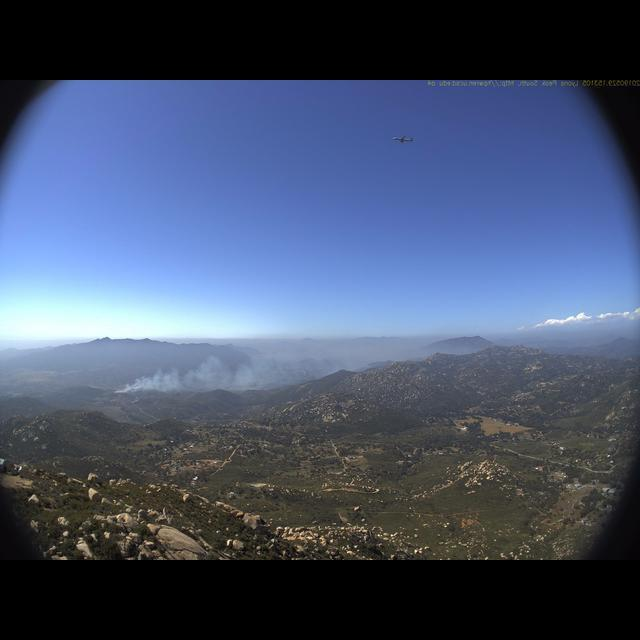Smoke: (115, 337, 403, 398)
